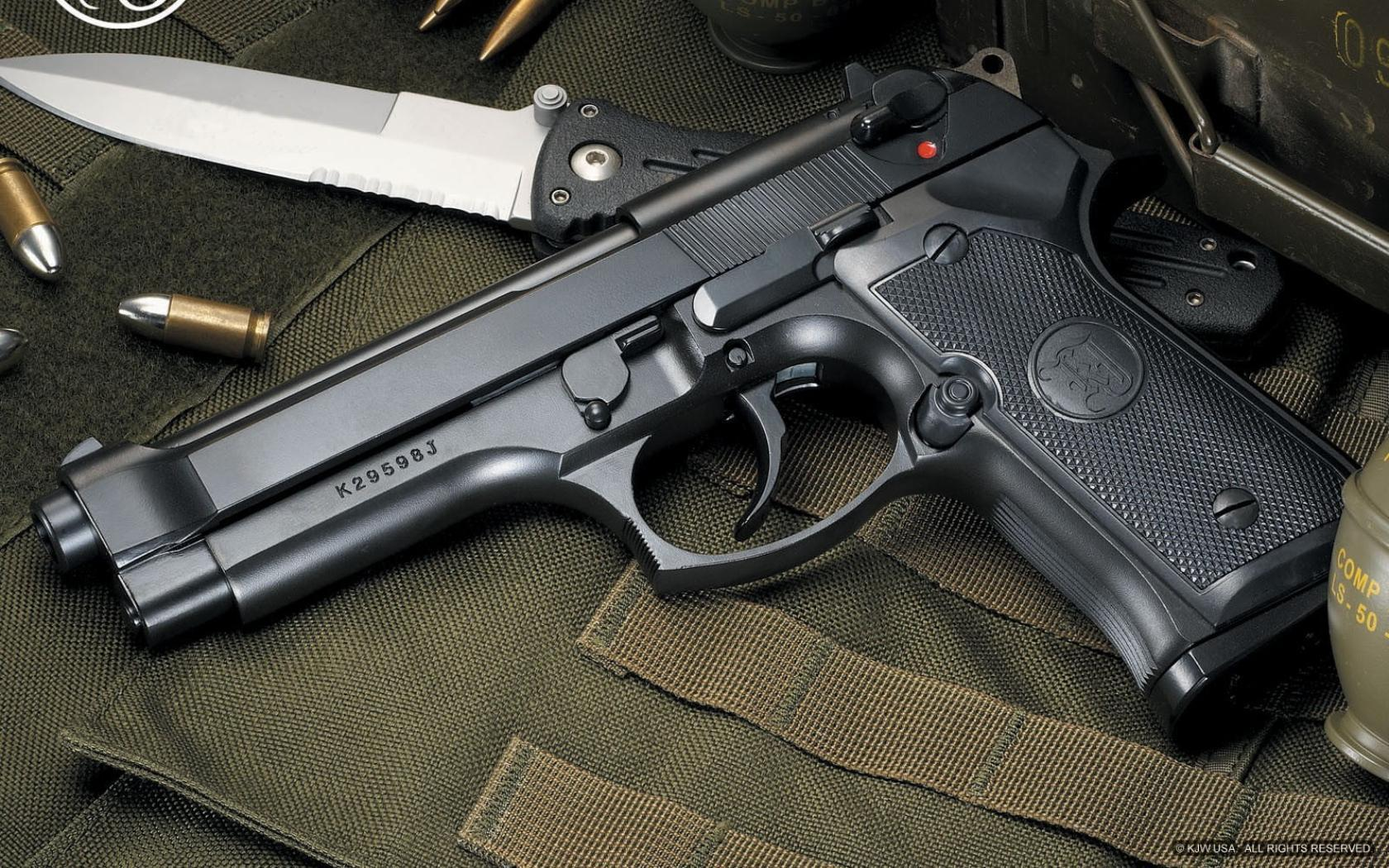Knife: (1, 48, 1288, 362)
Pistol: (27, 45, 1362, 748)
